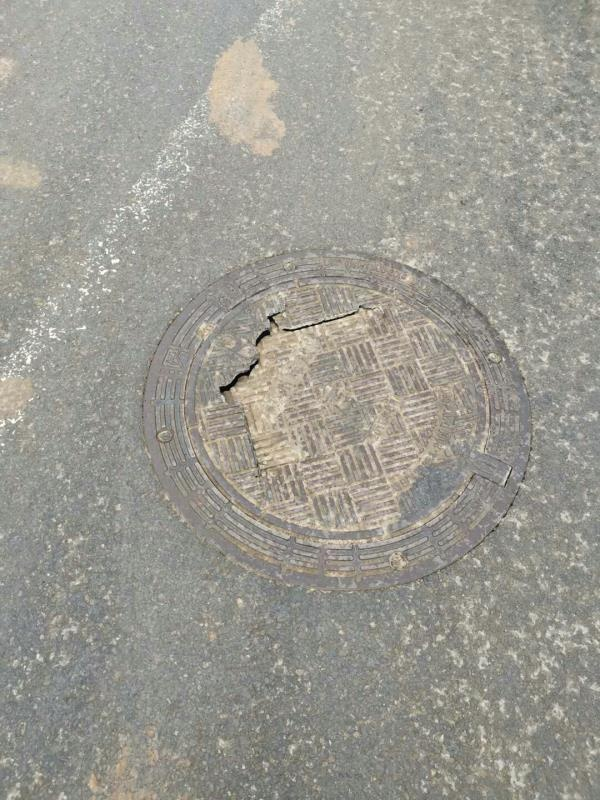well: (147, 250, 530, 584)
